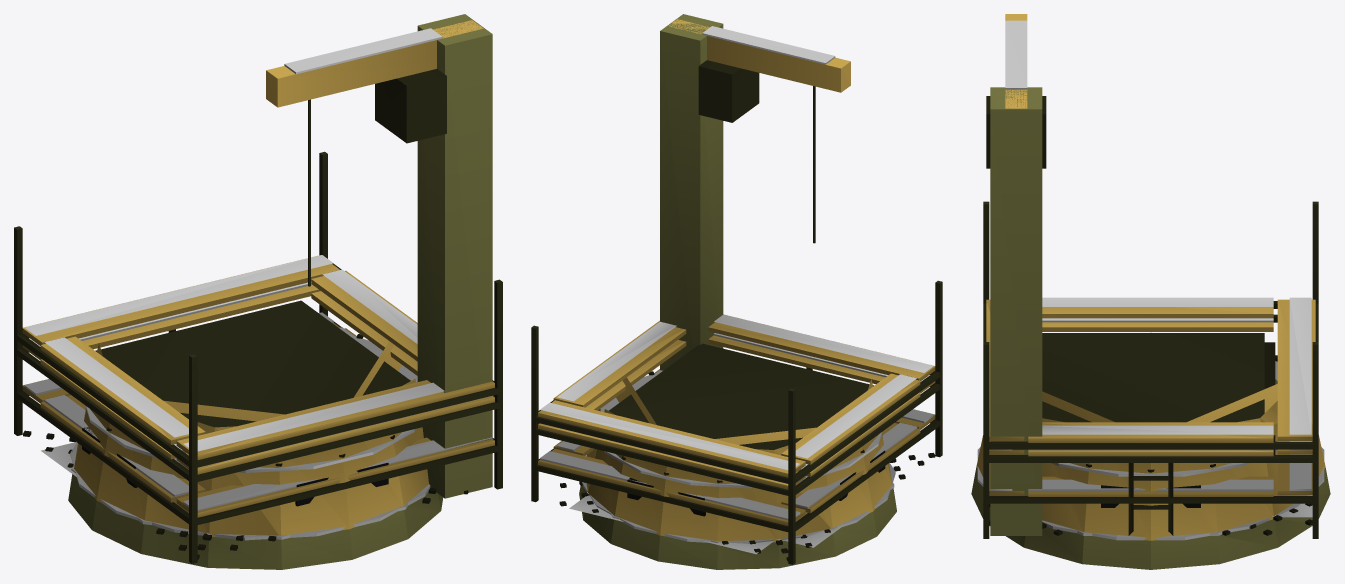
File: meridian_defence_tower_scaffolding.glb
The picture shows the model from 3 angles, left to right: view 1: azimuth 30°, elevation 25°; view 2: azimuth 150°, elevation 25°; view 3: azimuth 270°, elevation 25°; orthographic projection. The views are drawn at different scales.
Parts seen in each view (by area): view 1: body (×3); view 2: body (×3); view 3: body (×3).
Boxes of the visible parts, <box> form: body (×3): <box>14,14,502,569</box>; body (×3): <box>531,14,942,569</box>; body (×3): <box>971,14,1330,569</box>.
Size of the model in its own units: 3.6 by 5.04 by 3.6.
